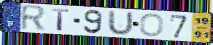7: (169, 14, 189, 39)
9: (83, 9, 104, 35)
O: (139, 13, 165, 38)
R: (19, 4, 48, 32)
T: (51, 8, 71, 32)
U: (106, 10, 135, 36)
